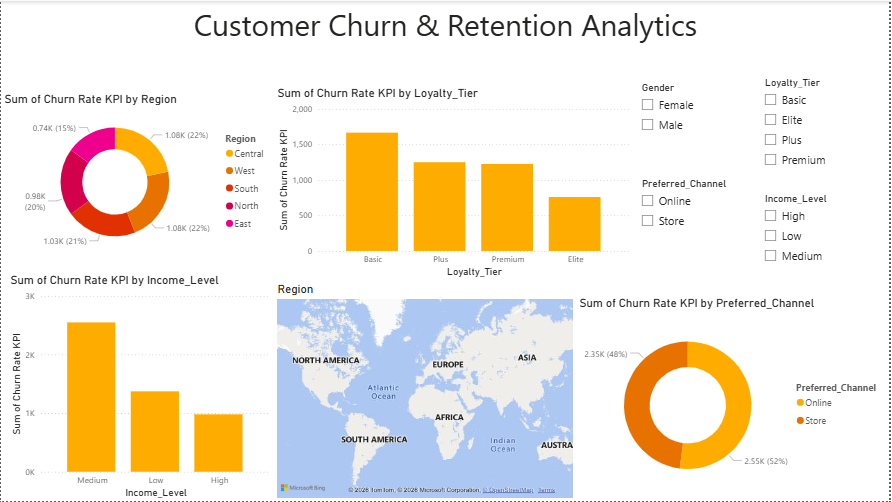

What the dashboard file says about the page in this screenshot:
{"tool":"powerbi","page":{"name":"T2","canvas":[1280,720],"ordinal":0},"visuals":[{"type":"clusteredColumnChart","fields":{"Y":["Sum(Customer_Demographics.Churn Rate KPI)"],"Category":["Customer_Demographics.Income_Level"]},"box":[8.4,391.4,384.7,329.2],"z":0},{"type":"donutChart","fields":{"Y":["Sum(Customer_Demographics.Churn Rate KPI)"],"Category":["Customer_Demographics.Preferred_Channel"]},"box":[828.1,425,451.9,295.6],"z":1000},{"type":"clusteredColumnChart","fields":{"Category":["Loyalty_Program.Loyalty_Tier"],"Y":["Sum(Customer_Demographics.Churn Rate KPI)"]},"box":[393.1,122.6,517.4,280.5],"z":2000},{"type":"donutChart","fields":{"Category":["Customer_Demographics.Region"],"Y":["Sum(Customer_Demographics.Churn Rate KPI)"]},"box":[0,131,393.1,240.2],"z":3000},{"type":"slicer","fields":{"Values":["Customer_Demographics.Gender"]},"box":[910.4,110.9,149.5,114.2],"z":4000},{"type":"slicer","fields":{"Values":["Loyalty_Program.Loyalty_Tier"]},"box":[1086.8,104.1,174.7,159.6],"z":5000},{"type":"slicer","fields":{"Values":["Customer_Demographics.Income_Level"]},"box":[1086.8,270.4,193.2,154.5],"z":6000},{"type":"slicer","fields":{"Values":["Customer_Demographics.Preferred_Channel"]},"box":[910.4,248.6,176.4,154.5],"z":7000},{"type":"textbox","box":[0,0,1280,104.1],"z":8000},{"type":"filledMap","fields":{"Series":["Customer_Demographics.Region"]},"box":[393,404,435,316],"z":9000}]}

Visuals, with their boxes in screenshot pixels (x1, y1, x2, y2), scaled from the page's 1280x720 canvas onto the 892x502 screenshot:
clusteredColumnChart - Sum(Customer_Demographics.Churn Rate KPI) x Customer_Demographics.Income_Level: [x1=6, y1=273, x2=274, y2=501]
donutChart - Sum(Customer_Demographics.Churn Rate KPI) x Customer_Demographics.Preferred_Channel: [x1=577, y1=296, x2=891, y2=501]
clusteredColumnChart - Loyalty_Program.Loyalty_Tier x Sum(Customer_Demographics.Churn Rate KPI): [x1=274, y1=85, x2=635, y2=281]
donutChart - Customer_Demographics.Region x Sum(Customer_Demographics.Churn Rate KPI): [x1=0, y1=91, x2=274, y2=259]
slicer - Customer_Demographics.Gender: [x1=634, y1=77, x2=739, y2=157]
slicer - Loyalty_Program.Loyalty_Tier: [x1=757, y1=73, x2=879, y2=184]
slicer - Customer_Demographics.Income_Level: [x1=757, y1=189, x2=891, y2=296]
slicer - Customer_Demographics.Preferred_Channel: [x1=634, y1=173, x2=757, y2=281]
textbox: [x1=0, y1=0, x2=891, y2=73]
filledMap - Customer_Demographics.Region: [x1=274, y1=282, x2=577, y2=501]
